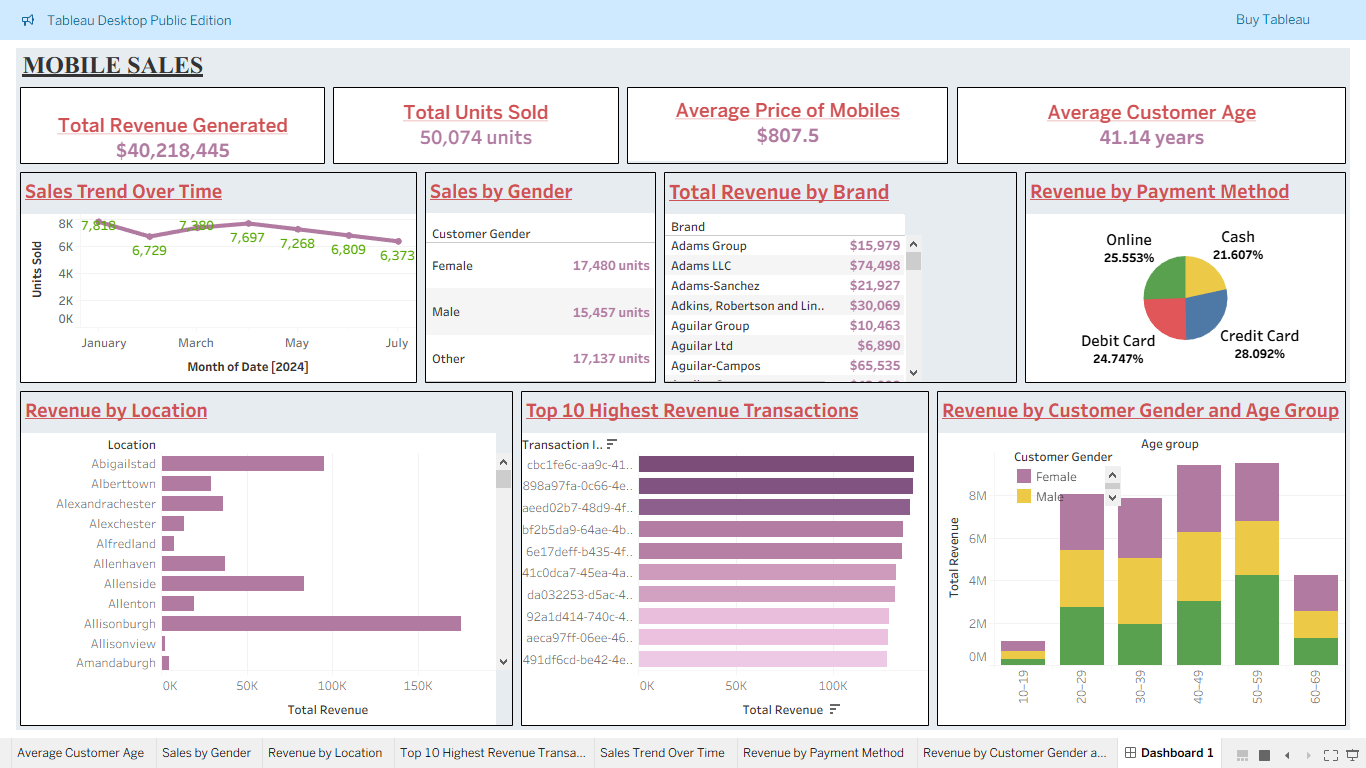

This screenshot's page, from the dashboard's own definition file:
{"tool":"tableau","page":{"name":"Dashboard 1","canvas":[1000,1000],"units":"permille","ordinal":0},"visuals":[{"type":"title","box":[6.9,14.5,986.1,63.4]},{"type":"worksheet","title":"Total Revenue Generated","mark":"Automatic","box":[6.9,77.9,231.7,119.7]},{"type":"worksheet","title":"Total Units Sold","mark":"Automatic","box":[238.6,77.9,217.4,119.7]},{"type":"worksheet","title":"Average Price of Mobiles","mark":"Automatic","box":[456.1,77.9,243.5,119.7]},{"type":"worksheet","title":"Average Customer Age","mark":"Automatic","box":[699.6,77.9,293.5,119.7]},{"type":"worksheet","title":"Sales Trend Over Time","mark":"Automatic","rows":["UnitsSold"],"cols":["Date"],"box":[6.9,197.6,299.3,307.5]},{"type":"worksheet","title":"Sales by Gender","mark":"Automatic","rows":["CustomerGender"],"box":[306.2,197.6,180.8,307.5]},{"type":"worksheet","title":"Total Revenue by Brand","mark":"Automatic","rows":["Brand"],"box":[487.1,197.6,262.5,307.5]},{"type":"worksheet","title":"Revenue by Payment Method","mark":"Pie","box":[749.6,197.6,243.5,307.5]},{"type":"worksheet","title":"Revenue by Location","mark":"Automatic","box":[6.9,505.1,370.3,480.4]},{"type":"worksheet","title":"Top 10 Highest Revenue Transactions","mark":"Automatic","rows":["TransactionID"],"cols":["TotalRevenue"],"box":[377.3,505.1,316.2,480.4]},{"type":"worksheet","title":"Revenue by Customer Gender and Age Group","mark":"Automatic","rows":["TotalRevenue"],"cols":["Calculation_548876238024708105"],"box":[693.4,505.1,299.6,480.4]},{"type":"legend","title":"Revenue by Customer Gender and Age Group","param":"[federated.1bwu7vm1hrpsse1a9umex02v51v4].[none:CustomerGender:nk]","box":[742,592.4,80.5,83.3]}]}

Visuals, with their boxes on the dashboard's canvas, which has no fixed pixel size, in thousandths of its width and height (x1, y1, x2, y2). These are canvas units, not pixel positions in the 1366x768 screenshot, which may show the page scaled, cropped or inside an application window:
title: 7:14:993:78
"Total Revenue Generated" worksheet: 7:78:239:198
"Total Units Sold" worksheet: 239:78:456:198
"Average Price of Mobiles" worksheet: 456:78:700:198
"Average Customer Age" worksheet: 700:78:993:198
"Sales Trend Over Time" worksheet: 7:198:306:505
"Sales by Gender" worksheet: 306:198:487:505
"Total Revenue by Brand" worksheet: 487:198:750:505
"Revenue by Payment Method" worksheet (Pie marks): 750:198:993:505
"Revenue by Location" worksheet: 7:505:377:986
"Top 10 Highest Revenue Transactions" worksheet: 377:505:694:986
"Revenue by Customer Gender and Age Group" worksheet: 693:505:993:986
"Revenue by Customer Gender and Age Group" legend: 742:592:822:676
